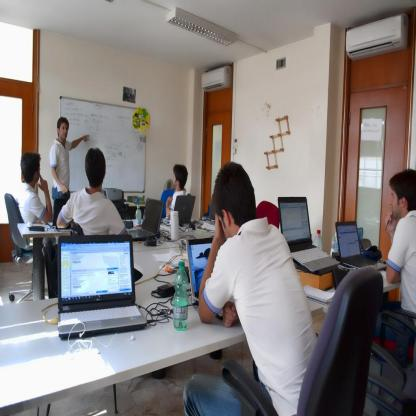board: (54, 229, 135, 336), (278, 196, 340, 273), (186, 236, 221, 318), (335, 222, 386, 270), (127, 198, 164, 241), (173, 261, 188, 331), (166, 196, 196, 223), (47, 199, 68, 229), (314, 228, 322, 250), (136, 205, 141, 227)
